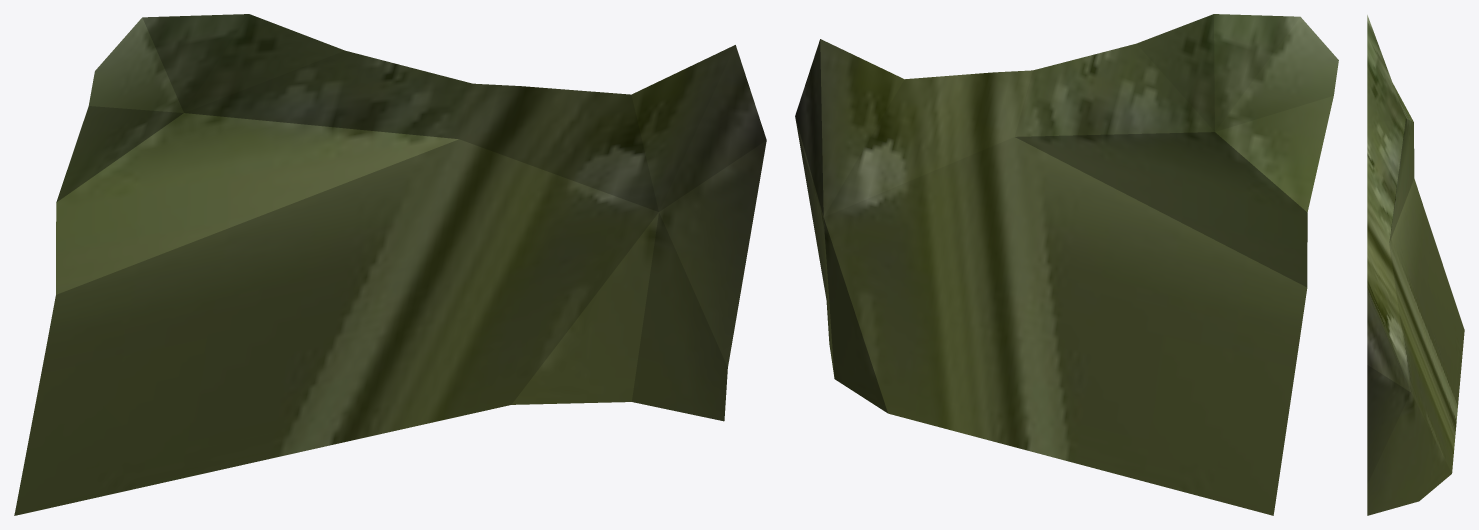
The picture shows the model from 3 angles, left to right: view 1: azimuth 30°, elevation 25°; view 2: azimuth 150°, elevation 25°; view 3: azimuth 270°, elevation 25°; orthographic projection. The views are drawn at different scales.
Bounding box in the file's own units: 1.41 × 1.1 × 0.2937.
Materials: 1 (1 with a texture image).
